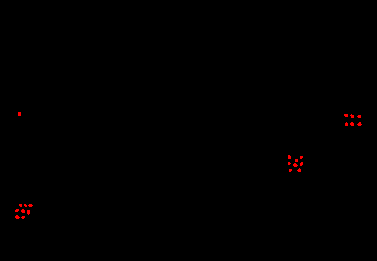Target: (357, 122, 362, 126), (293, 163, 298, 167), (15, 215, 20, 219), (350, 114, 354, 118), (350, 122, 354, 126), (297, 168, 301, 172), (21, 209, 25, 213), (28, 204, 33, 207), (27, 210, 30, 215), (18, 112, 21, 116), (344, 114, 348, 117), (357, 115, 361, 118), (345, 122, 348, 126), (288, 155, 291, 159), (300, 162, 303, 166), (15, 209, 19, 212), (21, 216, 25, 219), (300, 156, 303, 159), (295, 159, 298, 162), (288, 162, 291, 165), (289, 169, 292, 172), (19, 204, 22, 207), (24, 204, 27, 207)
